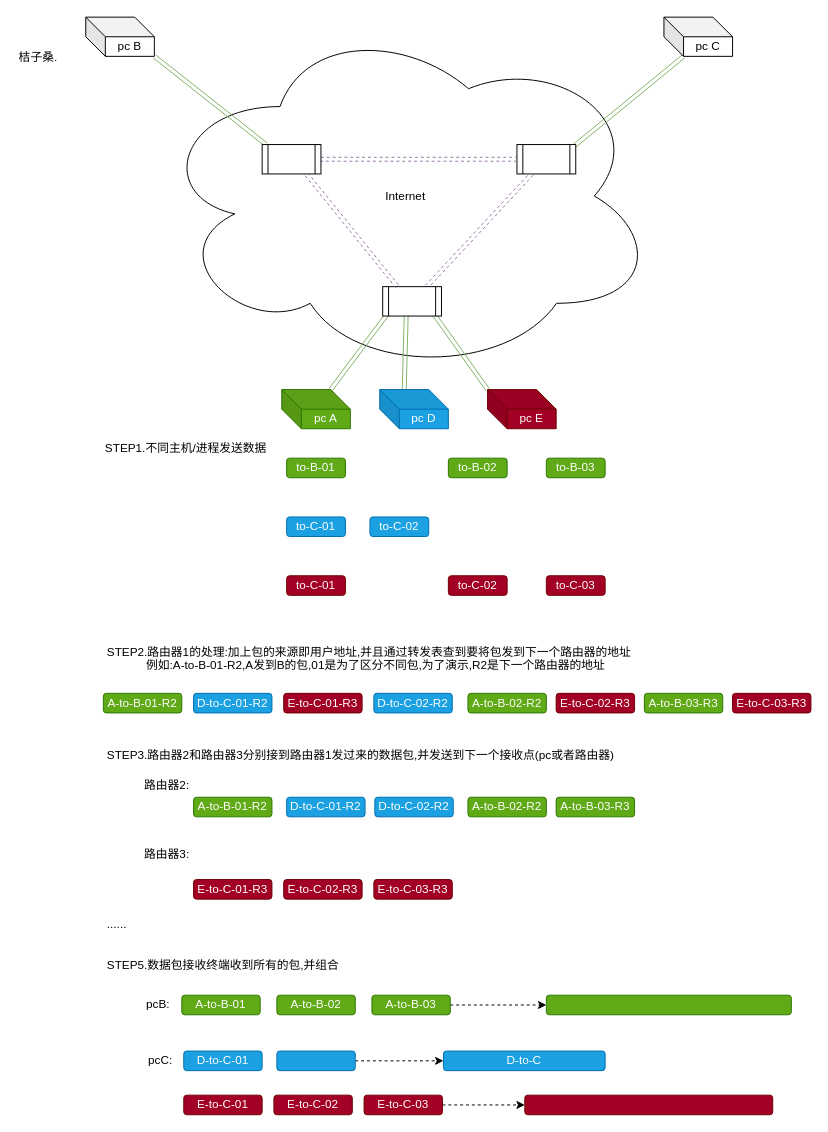
Some shapes in this 828 by 1132 pixel diagram are drawn without their labels. Each missing label, with the centre of its shape:
"A-to-B" goes at (x=668, y=1004).
"D-to-C-02" goes at (x=315, y=1060).
"E-to-C" goes at (x=648, y=1104).
"路由器1" goes at (x=411, y=301).
"路由器2" goes at (x=291, y=159).
"路由器3" goes at (x=546, y=159).
